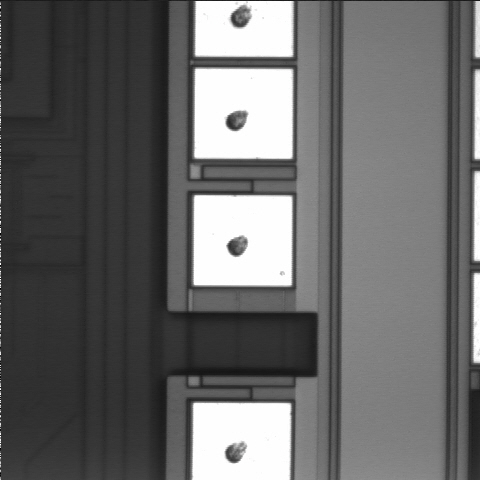pad: (194, 195, 292, 286), (194, 69, 293, 159)
